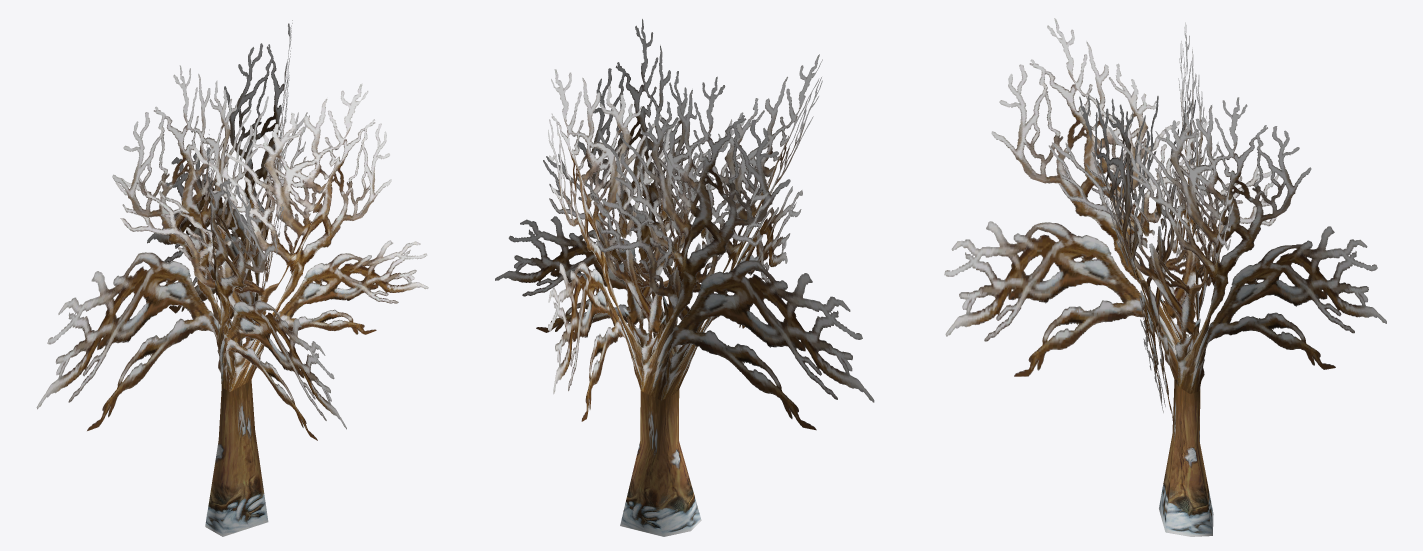
File: wintermidtree01.obj
3 renders of one model, left to right at view 1: azimuth 30°, elevation 25°; view 2: azimuth 150°, elevation 25°; view 3: azimuth 270°, elevation 25°, orthographic. The views are drawn at different scales.
Visible parts, largest first — view 1: WINTERMIDTREE011, WINTERMIDTREE010; view 2: WINTERMIDTREE011, WINTERMIDTREE010; view 3: WINTERMIDTREE011, WINTERMIDTREE010.
Boxes of the visible parts, x1=… form: WINTERMIDTREE011: x1=36, y1=20, x2=428, y2=440; WINTERMIDTREE010: x1=205, y1=380, x2=268, y2=536; WINTERMIDTREE011: x1=495, y1=19, x2=874, y2=430; WINTERMIDTREE010: x1=620, y1=385, x2=701, y2=536; WINTERMIDTREE011: x1=944, y1=18, x2=1386, y2=424; WINTERMIDTREE010: x1=1159, y1=379, x2=1213, y2=536.
Size of the model in its own units: 21.59 by 22.51 by 20.62.
Materials: 2 (2 with a texture image).
